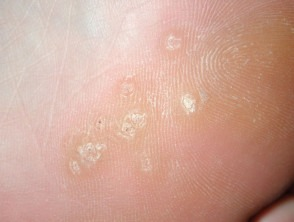Warts: (59, 131, 109, 179), (115, 105, 150, 142), (157, 26, 189, 59), (177, 84, 199, 119)
